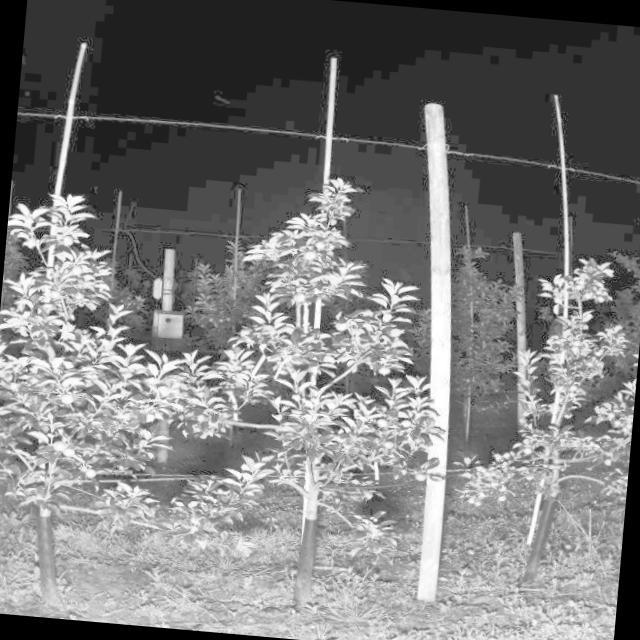Tree: (214, 178, 407, 620), (0, 188, 142, 611), (506, 246, 617, 596)
